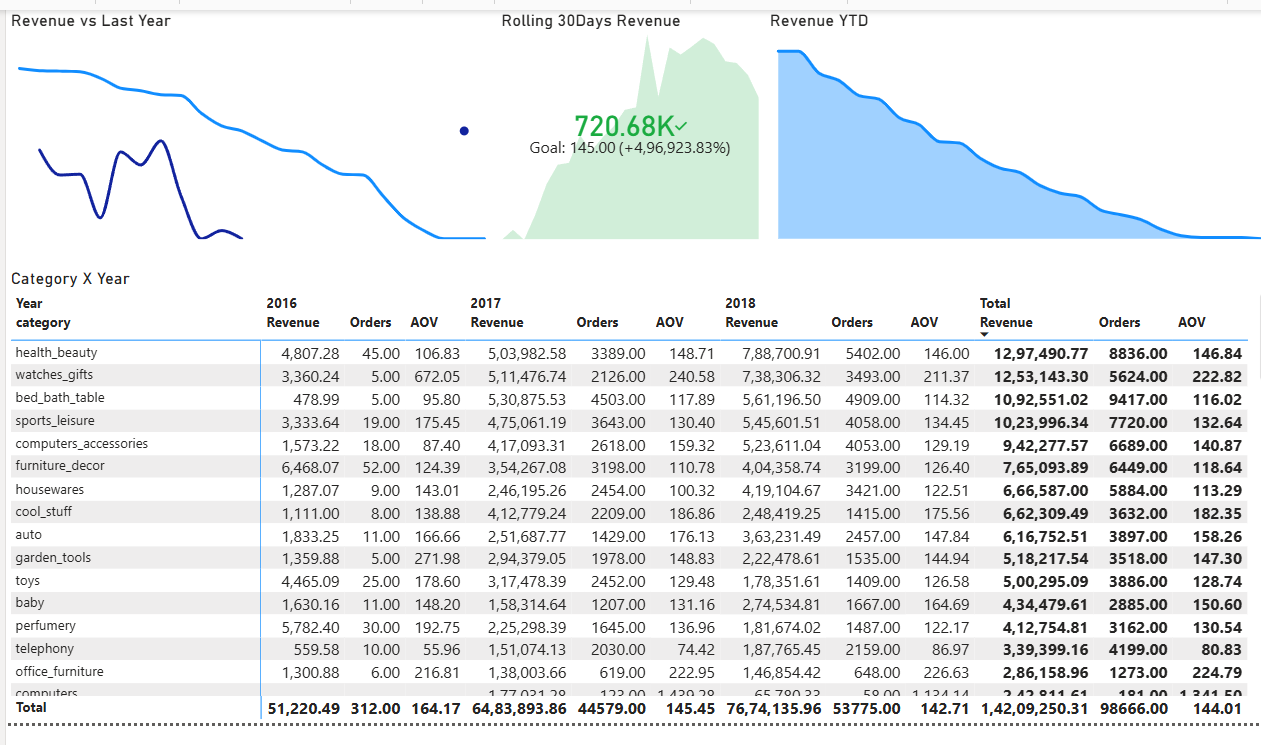

This screenshot's page, from the dashboard's own definition file:
{"tool":"powerbi","page":{"name":"Sales Trends","canvas":[1280,720],"ordinal":1},"visuals":[{"type":"lineChart","title":"Revenue vs Last Year","fields":{"Category":["DimDate.Year-Month"],"Y":["public bi_fact_sales.Revenue","public bi_fact_sales.Revenue LY"]},"box":[0,0,495.8,236.7],"z":0},{"type":"kpi","title":"Rolling 30Days Revenue","fields":{"TrendLine":["DimDate.Year-Month"],"Goal":["public bi_fact_sales.Revenue"],"Indicator":["public bi_fact_sales.Rolling 30D Revenue"]},"box":[495.8,0,269.7,236.7],"z":1000},{"type":"areaChart","title":"Revenue YTD","fields":{"Category":["DimDate.Year-Month"],"Y":["public bi_fact_sales.Revenue YTD"]},"box":[765.5,0,514.3,236.7],"z":2000},{"type":"pivotTable","title":"Category X Year","fields":{"Values":["public bi_fact_sales.Revenue","public bi_fact_sales.Orders","public bi_fact_sales.AOV"],"Columns":["DimDate.Year"],"Rows":["public bi_fact_sales.category"]},"box":[0,260.5,1279.8,460.1],"z":3000}]}

Visuals, with their boxes on the page's 1280x720 design canvas (x1, y1, x2, y2). These are canvas units, not pixel positions in the 1261x745 screenshot, which may show the page scaled, cropped or inside an application window:
"Revenue vs Last Year" lineChart: {"left": 0, "top": 0, "right": 496, "bottom": 237}
"Rolling 30Days Revenue" kpi: {"left": 496, "top": 0, "right": 766, "bottom": 237}
"Revenue YTD" areaChart: {"left": 766, "top": 0, "right": 1280, "bottom": 237}
"Category X Year" pivotTable: {"left": 0, "top": 260, "right": 1280, "bottom": 721}
